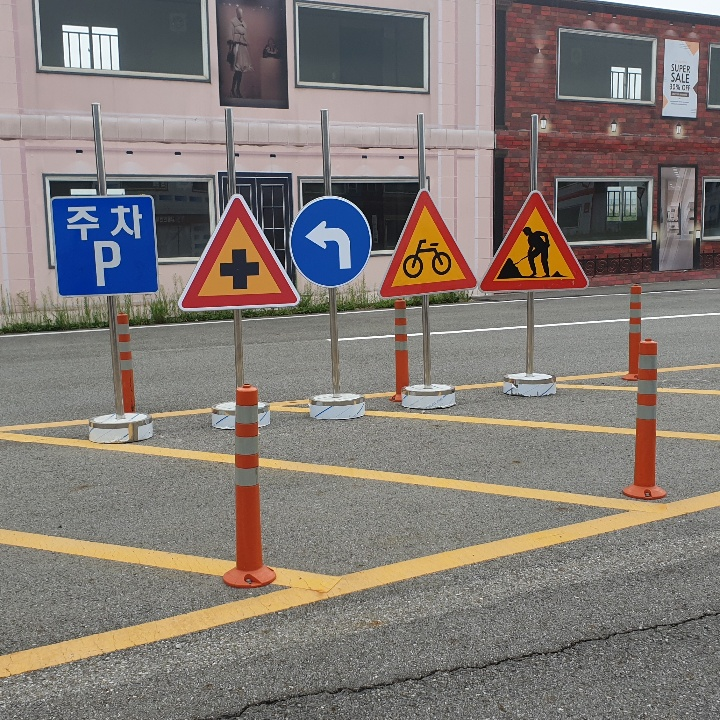bicycle: (382, 191, 476, 291)
const: (496, 223, 571, 281)
inter: (213, 246, 264, 294)
left: (301, 213, 358, 278)
parking: (85, 236, 126, 289)
